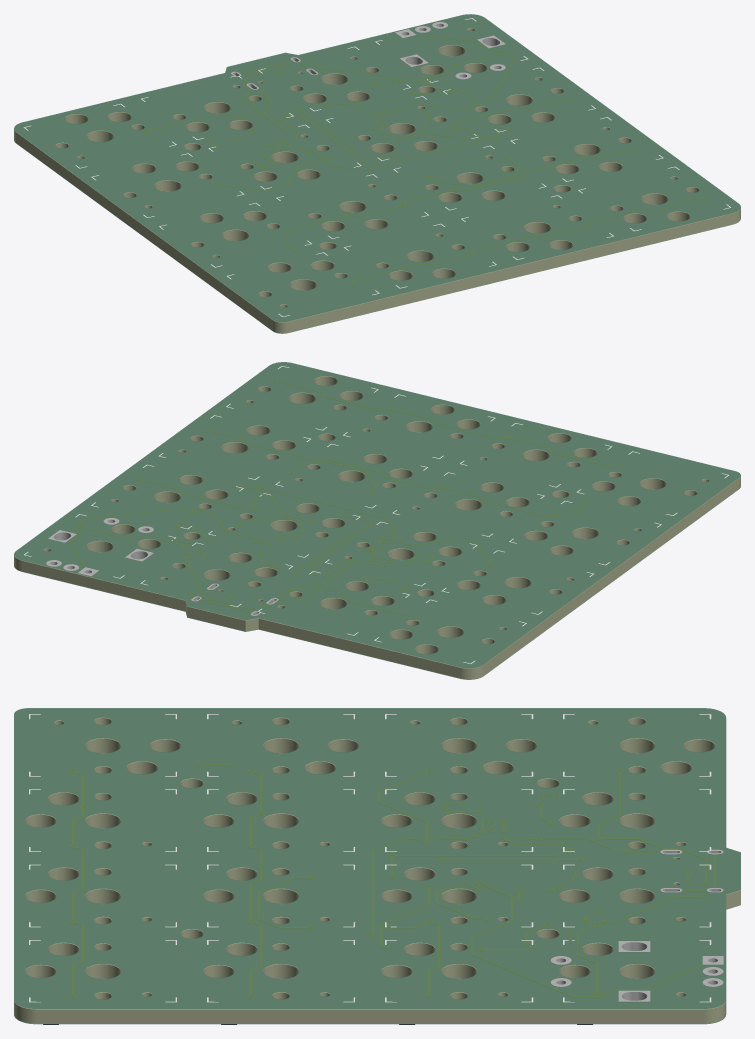
The model's file is board.glb.
The picture shows the model from 3 angles, top to bottom: view 1: azimuth 30°, elevation 25°; view 2: azimuth 150°, elevation 25°; view 3: azimuth 270°, elevation 25°; orthographic projection. The views are drawn at different scales.
Parts seen in each view (by area): view 1: board_PCB, board_soldermask (×2), board_copper, board_pad, board_silkscreen; view 2: board_PCB, board_soldermask (×2), board_copper, board_pad, board_silkscreen; view 3: board_PCB, board_soldermask (×2), board_copper, board_pad, board_silkscreen.
Part boxes in pixels (x1,y1,x2,y2): board_PCB: (14, 15, 740, 333); board_soldermask (×2): (14, 14, 740, 333); board_copper: (143, 35, 707, 284); board_pad: (231, 22, 505, 89); board_silkscreen: (23, 18, 730, 316); board_PCB: (14, 363, 740, 679); board_soldermask (×2): (14, 362, 740, 679); board_copper: (69, 380, 627, 618); board_pad: (46, 518, 278, 615); board_silkscreen: (24, 366, 728, 663); board_PCB: (14, 709, 740, 1023); board_soldermask (×2): (14, 708, 740, 1024); board_copper: (69, 763, 715, 997); board_pad: (550, 850, 723, 1001); board_silkscreen: (29, 714, 711, 1002).
Bounding box in the file's own units: 0.068 × 0.00278 × 0.0694.
